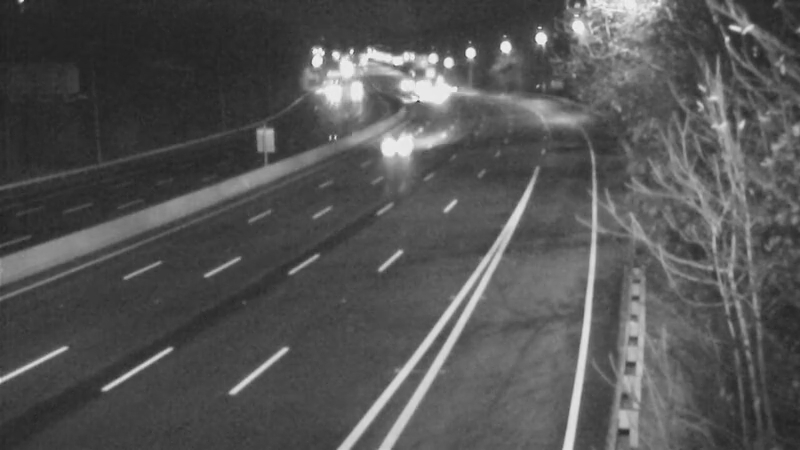vehicle: (420, 62, 470, 112), (406, 71, 456, 121), (391, 76, 441, 126), (381, 117, 431, 167), (306, 69, 356, 119), (330, 66, 380, 116)
